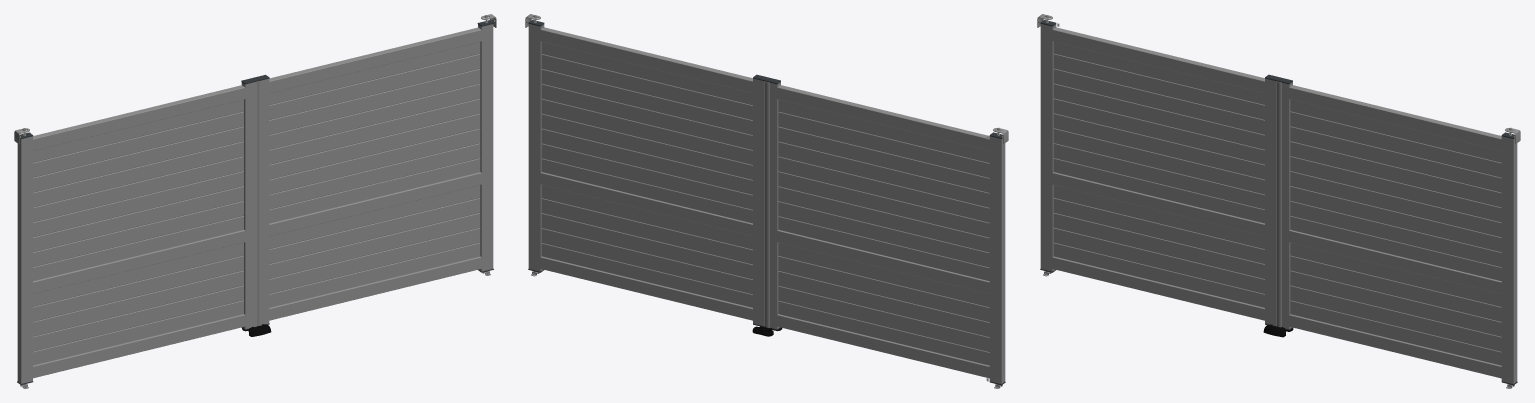
3 renders of one model, left to right at view 1: azimuth 30°, elevation 25°; view 2: azimuth 150°, elevation 25°; view 3: azimuth 330°, elevation 25°, orthographic.
Parts seen in each view (by area): view 1: Shape107412643, Shape107412740, Shape107412772, Shape042, Shape107412779, Shape107412780, Shape107412775, Shape107412776, Shape107412774, Shape107412777, Shape107412778, Shape107412783 (+27 smaller); view 2: Shape107412643, Shape107412740, Shape042, Shape107412772, Shape107412759, Shape107412761, Shape107412762, Shape107412763, Shape107412766, Shape107412774, Shape107412775, Shape107412783 (+27 smaller); view 3: Shape107412740, Shape107412643, Shape107412772, Shape042, Shape107412774, Shape107412763, Shape107412775, Shape107412776, Shape107412777, Shape107412778, Shape107412780, Shape107412785 (+27 smaller).
Part boxes in pixels (x1,y1,x2,y2): Shape107412643: [17, 136, 32, 383]; Shape107412740: [478, 24, 493, 271]; Shape107412772: [269, 27, 481, 93]; Shape042: [33, 85, 245, 150]; Shape107412779: [269, 128, 480, 194]; Shape107412780: [269, 143, 480, 209]; Shape107412775: [269, 69, 480, 134]; Shape107412776: [269, 83, 480, 149]; Shape107412774: [269, 54, 480, 119]; Shape107412777: [269, 98, 480, 164]; Shape107412778: [269, 113, 480, 179]; Shape107412783: [269, 198, 480, 263]; Shape107412643: [989, 136, 1005, 383]; Shape107412740: [528, 24, 544, 271]; Shape042: [777, 85, 989, 150]; Shape107412772: [540, 27, 752, 92]; Shape107412759: [778, 141, 989, 207]; Shape107412761: [778, 171, 989, 237]; Shape107412762: [778, 186, 989, 252]; Shape107412763: [778, 201, 989, 267]; Shape107412766: [778, 256, 989, 322]; Shape107412774: [541, 54, 752, 120]; Shape107412775: [541, 69, 752, 135]; Shape107412783: [541, 198, 752, 264]; Shape107412740: [1501, 136, 1517, 383]; Shape107412643: [1040, 24, 1056, 271]; Shape107412772: [1289, 85, 1501, 150]; Shape042: [1052, 27, 1264, 92]; Shape107412774: [1290, 111, 1501, 177]; Shape107412763: [1053, 143, 1264, 209]; Shape107412775: [1290, 126, 1501, 192]; Shape107412776: [1290, 141, 1501, 207]; Shape107412777: [1290, 156, 1501, 222]; Shape107412778: [1290, 171, 1501, 237]; Shape107412780: [1290, 201, 1501, 267]; Shape107412785: [1290, 285, 1501, 351].
Bounding box in the file's own units: 3260 × 1696 × 146.
Materials: 7 (2 with a texture image).
